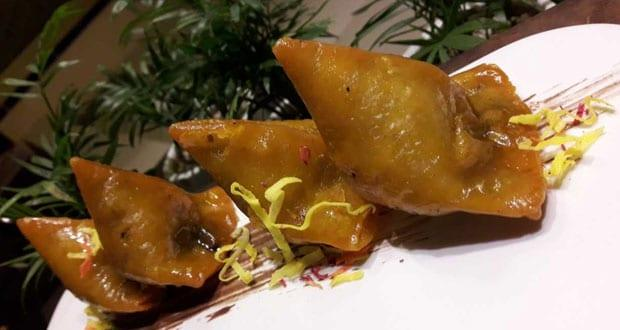samosa: (275, 39, 545, 219), (170, 120, 374, 251), (70, 157, 237, 286)
